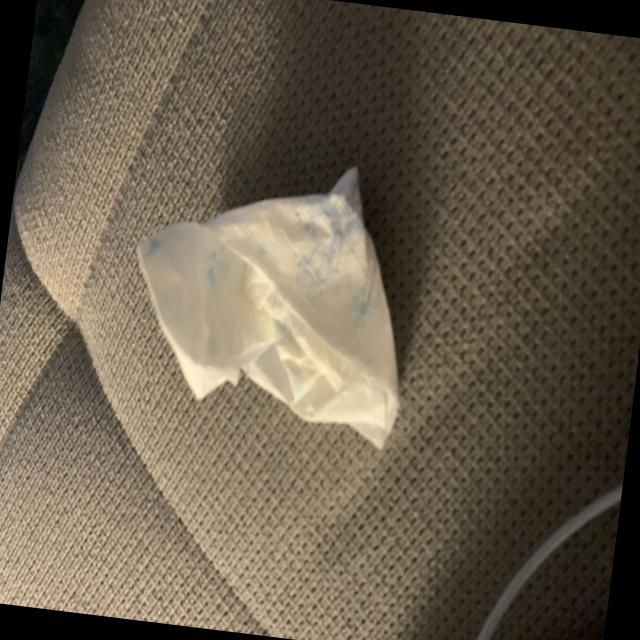organic waste: (112, 134, 432, 456)
